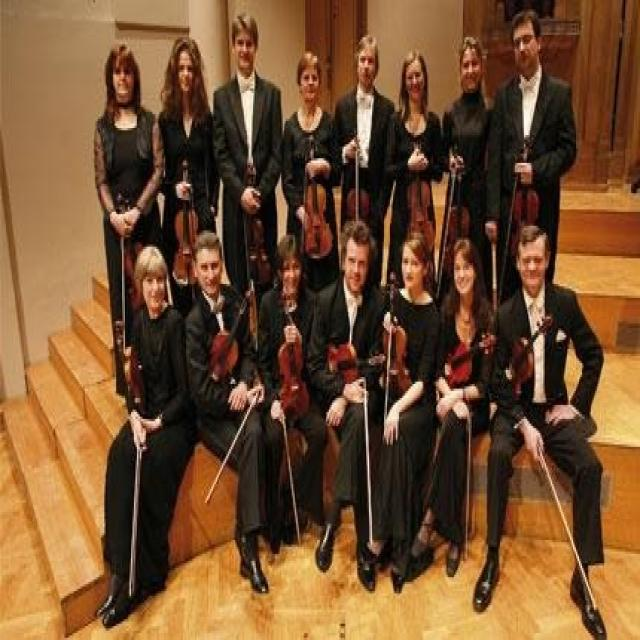violin: (276, 290, 313, 422), (300, 135, 337, 263), (210, 288, 256, 383), (504, 312, 552, 400), (382, 272, 413, 398), (242, 164, 273, 289), (510, 138, 540, 257), (173, 159, 200, 289), (408, 142, 438, 254), (443, 153, 469, 280), (443, 328, 494, 392), (322, 336, 386, 386), (345, 134, 373, 230), (117, 191, 142, 294), (123, 348, 150, 413)
